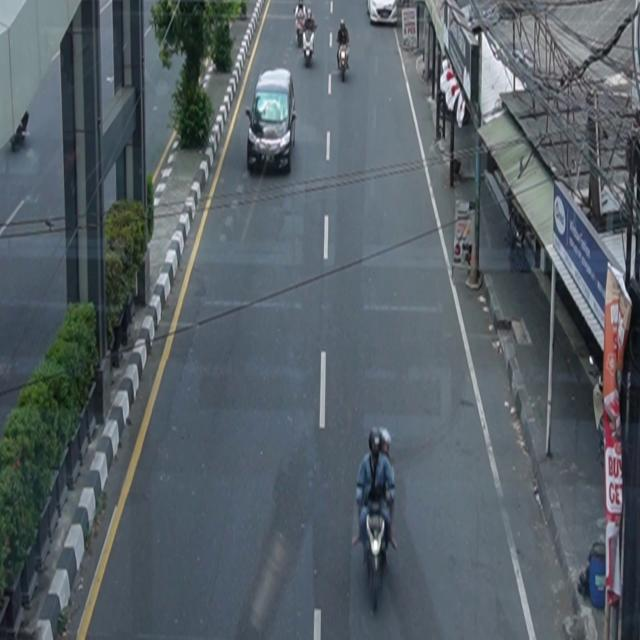car: (246, 67, 298, 175), (367, 1, 398, 26)
